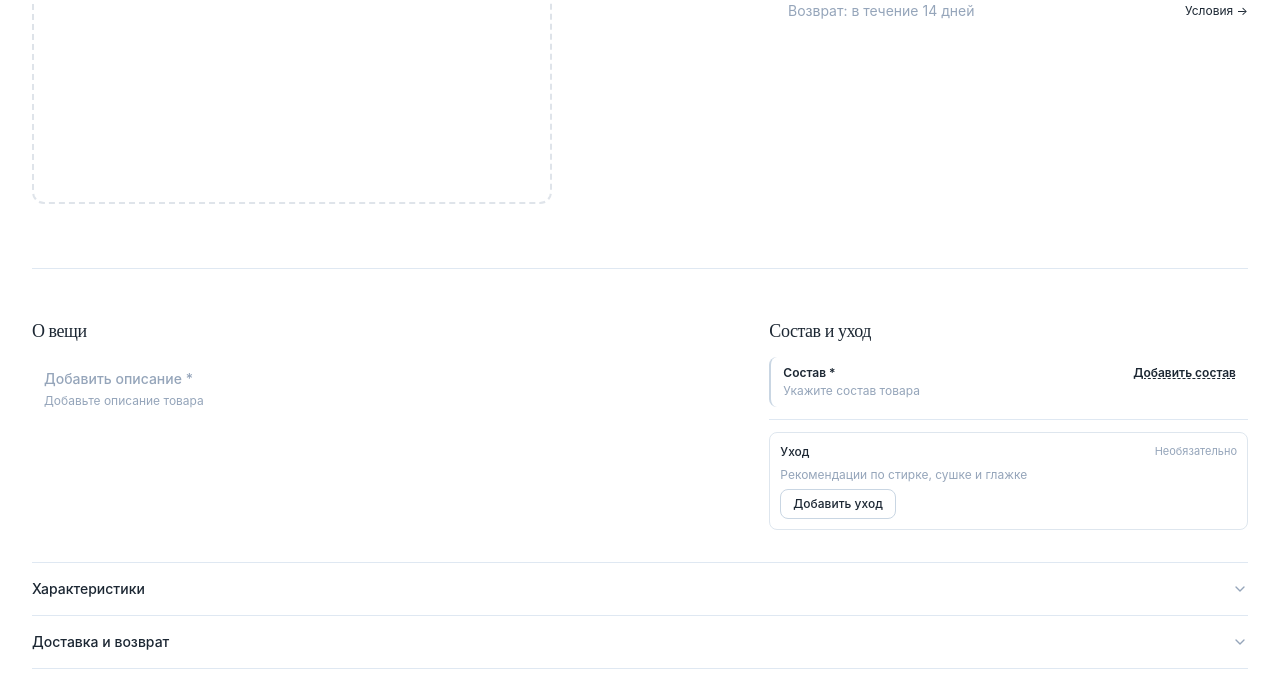
PS.R4A.5B1 — Required Product Content + Canonical Characteristics UX › 2. Composition is REQUIRED › clicking Add Composition opens Composition Modal, saving rows updates draft atomically
The image size is (1280, 693).
(page scrolled)
Click the button with test id "add-composition-btn": x=1185, y=373 [1133,365,1236,381]
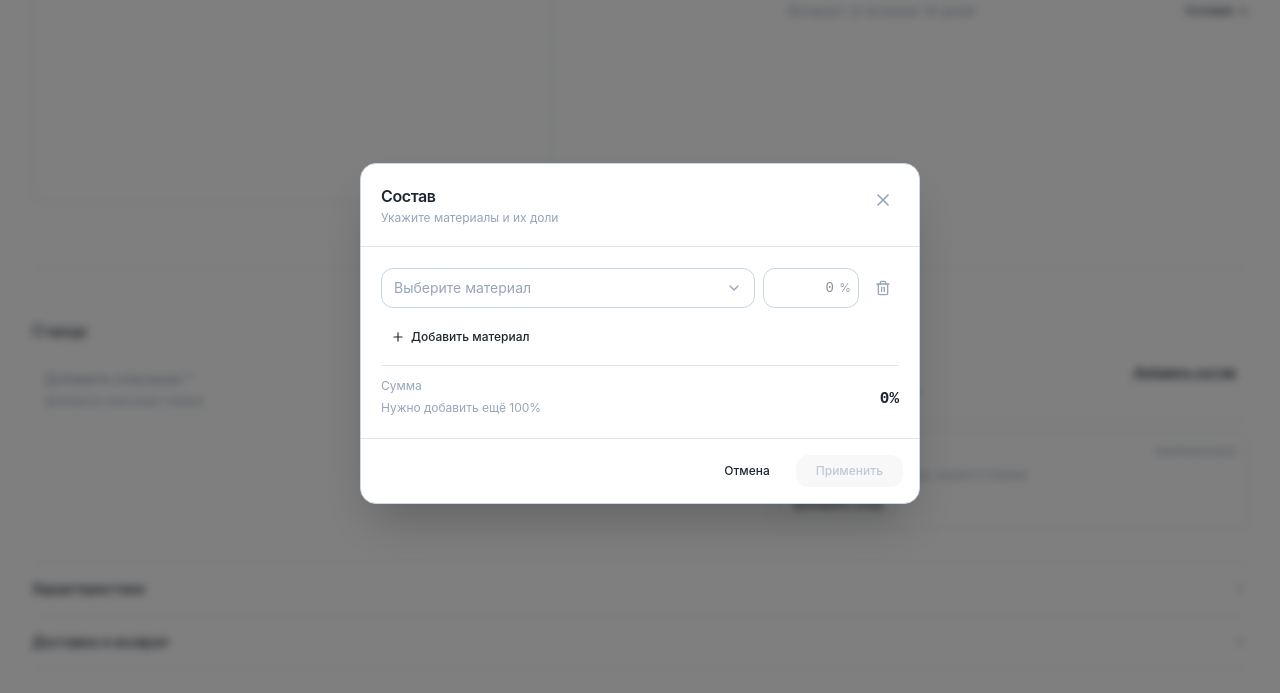
Expected: the element with test id "composition-modal" is shown, [360,162,920,504]
Expected: the dropdown with test id "composition-material-trigger-0" is shown
Click the dropdown with test id "composition-material-trigger-0": x=463, y=287 [381,268,755,308]
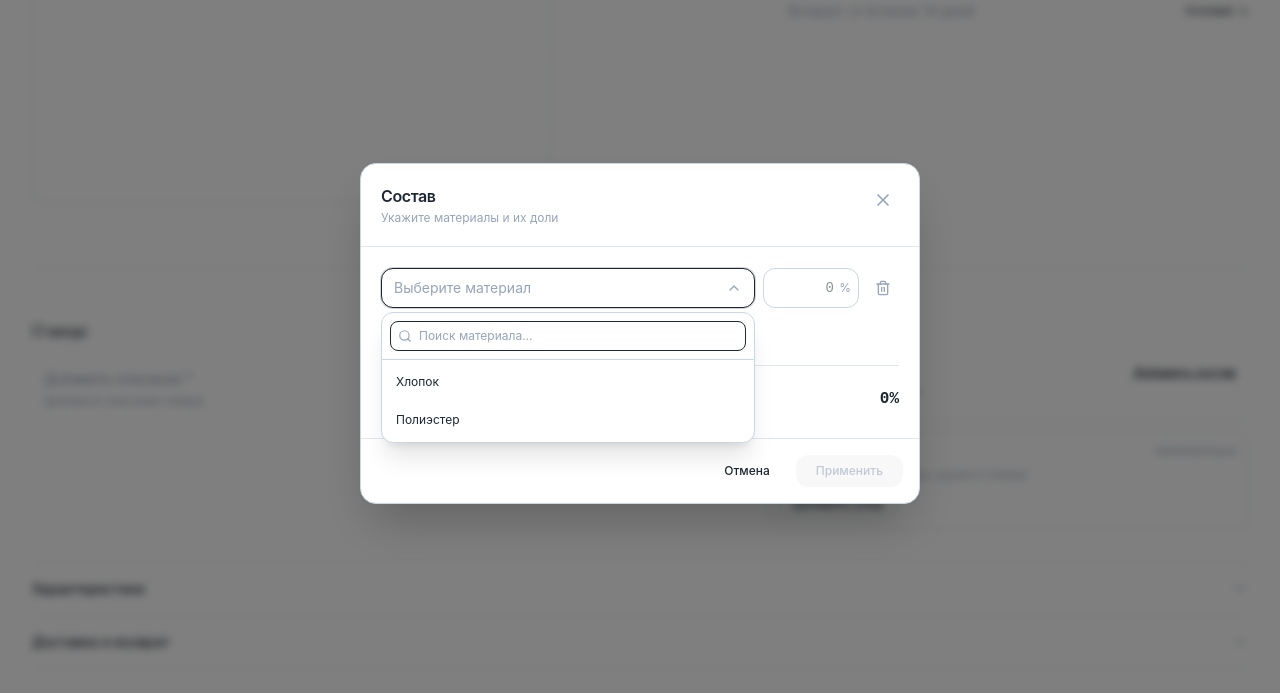
Click the option with test id "material-option-mat-cotton": x=418, y=381 [386,364,750,400]
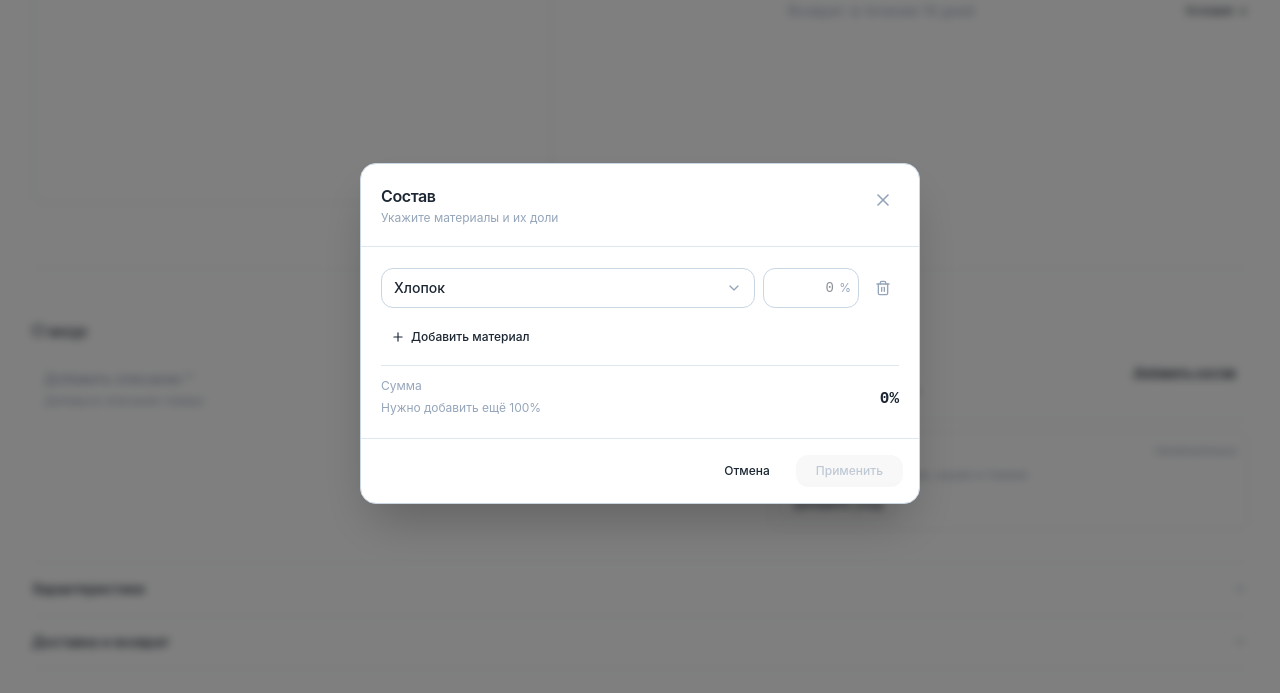
In the field with test id "composition-percentage-input-0": x=811, y=288 [763,268,859,308], type "100"
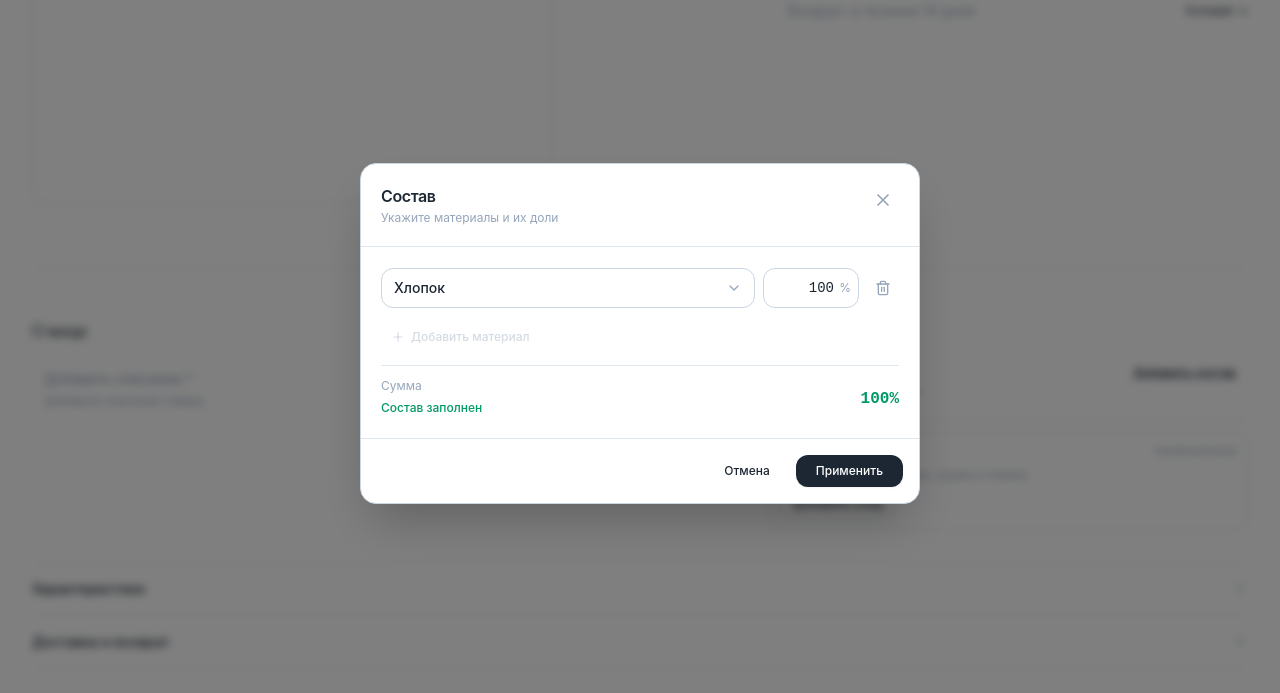
Click the button with test id "composition-modal-apply": x=849, y=470 [796,454,903,486]
(page scrolled)
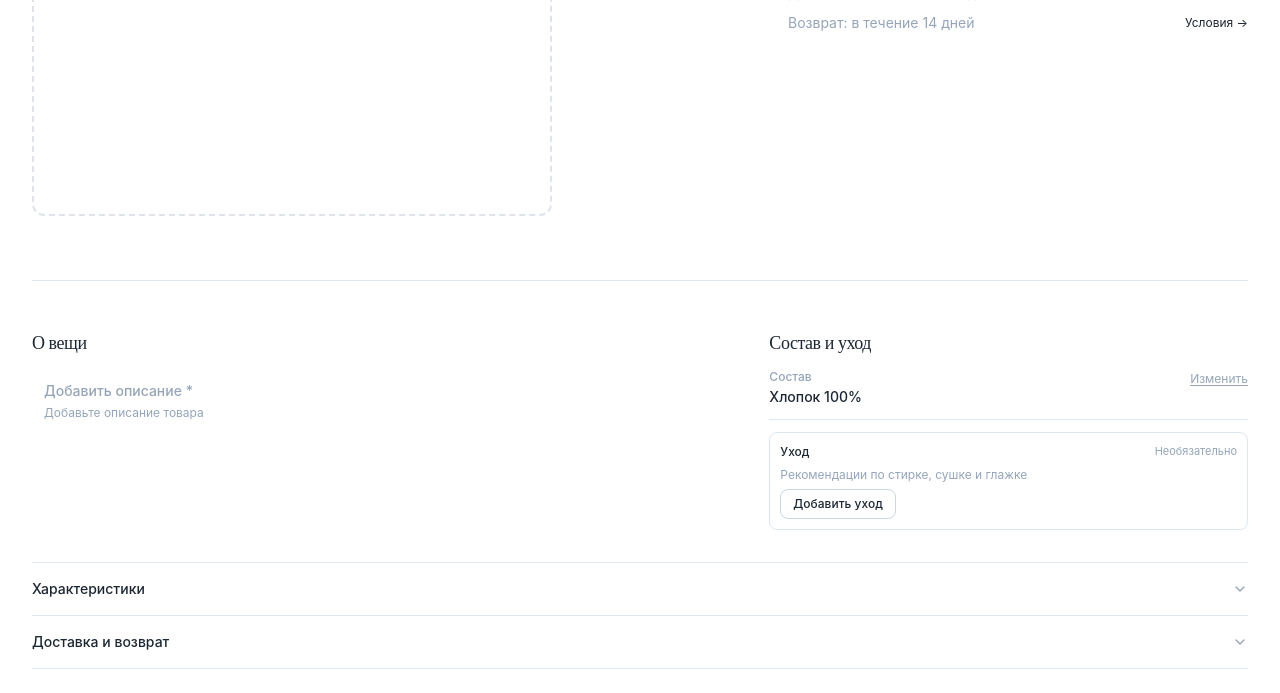
Expected: the element with test id "composition-modal" is gone
Expected: the text with test id "composition-required-helper" is gone
